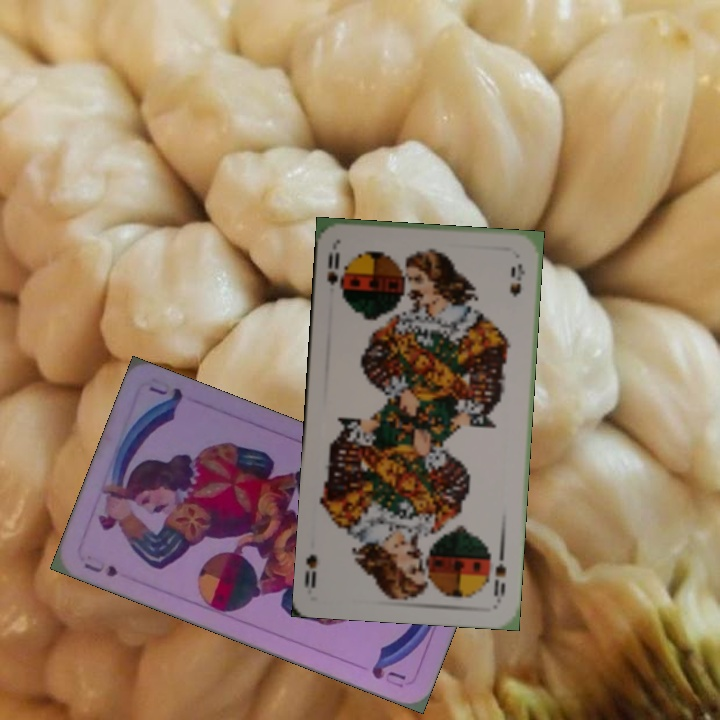SO: (323, 248, 347, 301), (490, 544, 509, 599)
SU: (80, 556, 121, 580)
